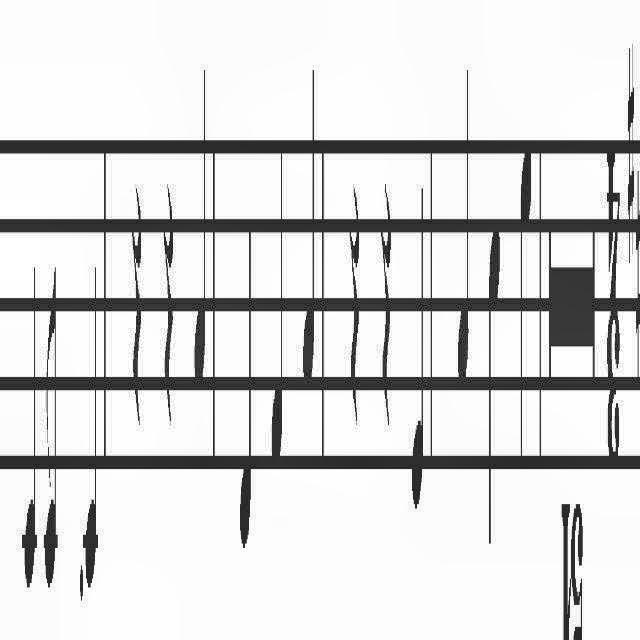Diez: (627, 46, 635, 254), (636, 154, 640, 386)
Eighth-note: (44, 253, 56, 607)
Quarter-note: (518, 137, 534, 491), (22, 250, 38, 598), (193, 52, 207, 404), (271, 136, 285, 472), (84, 262, 98, 588), (458, 59, 470, 401), (303, 56, 315, 397), (412, 175, 424, 513), (488, 215, 500, 550), (240, 228, 252, 554)
Quarter-rest: (130, 162, 142, 432), (380, 169, 392, 435), (162, 169, 174, 435), (350, 181, 360, 441)
